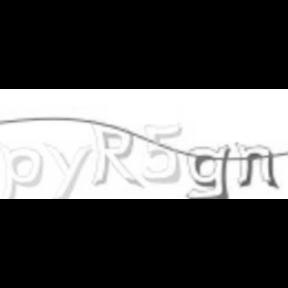5: (140, 122, 184, 182)
R: (90, 121, 142, 189)
g: (185, 142, 231, 200)
n: (236, 139, 280, 191)
p: (0, 144, 46, 200)
y: (42, 142, 94, 200)
